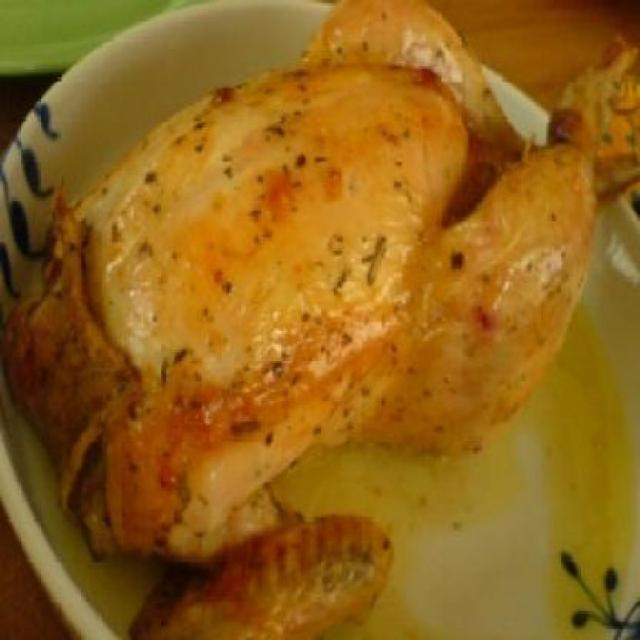Chicken roast: (26, 15, 592, 603)
